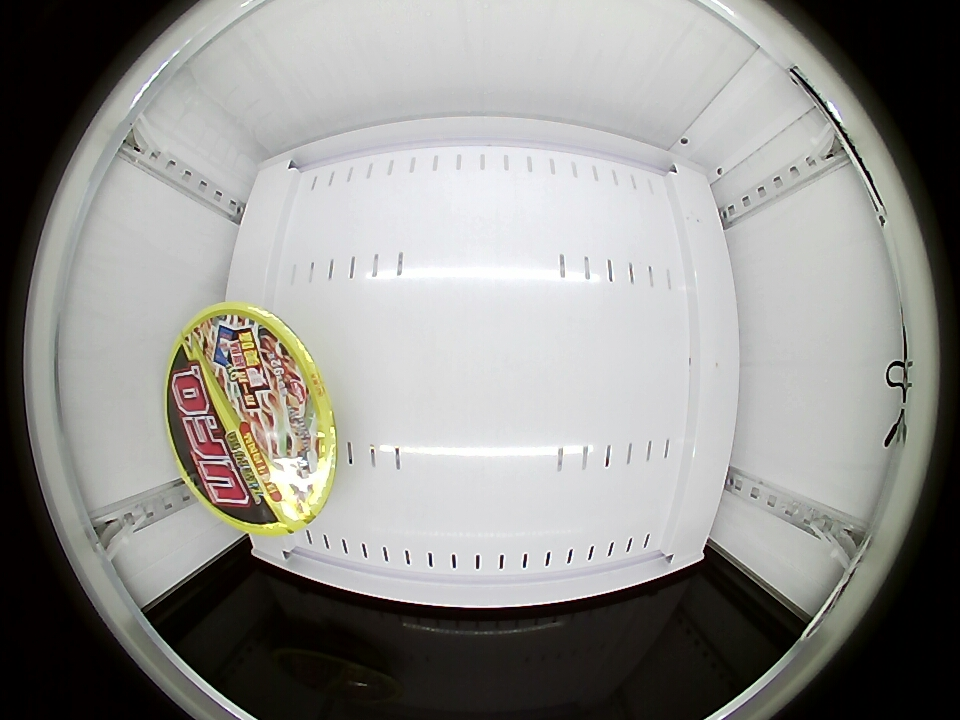ufo: (166, 303, 338, 536)
